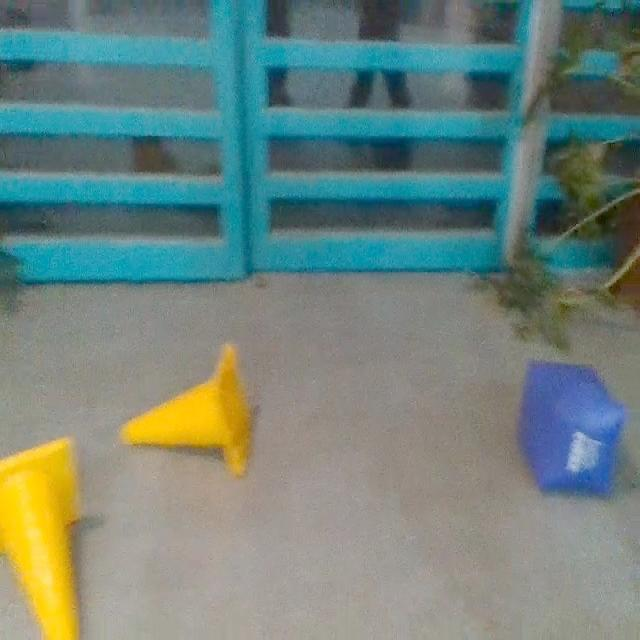cone: (0, 433, 90, 640), (119, 342, 258, 476)
cube: (519, 356, 627, 500)
